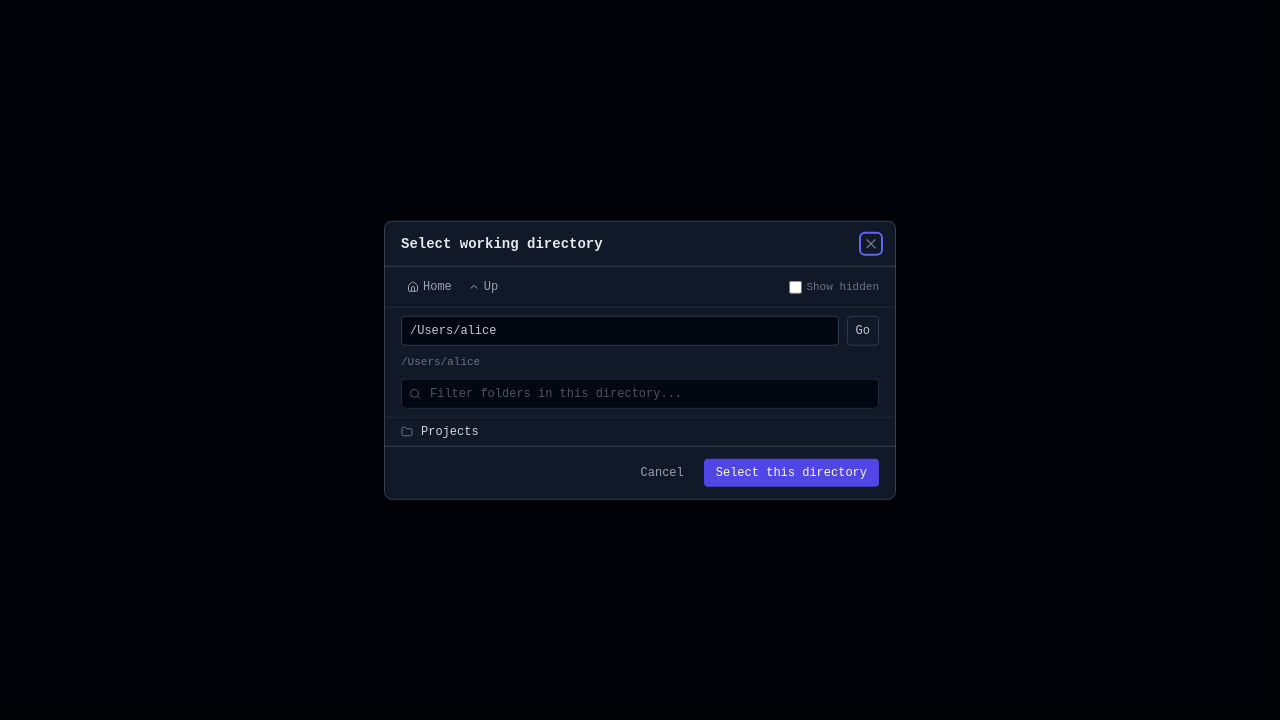
Scenario: FolderPicker — navigation (POSIX) › descends into a child directory with POSIX separator
Click the button "Projects" at (450, 431), box [385,417,895,445]
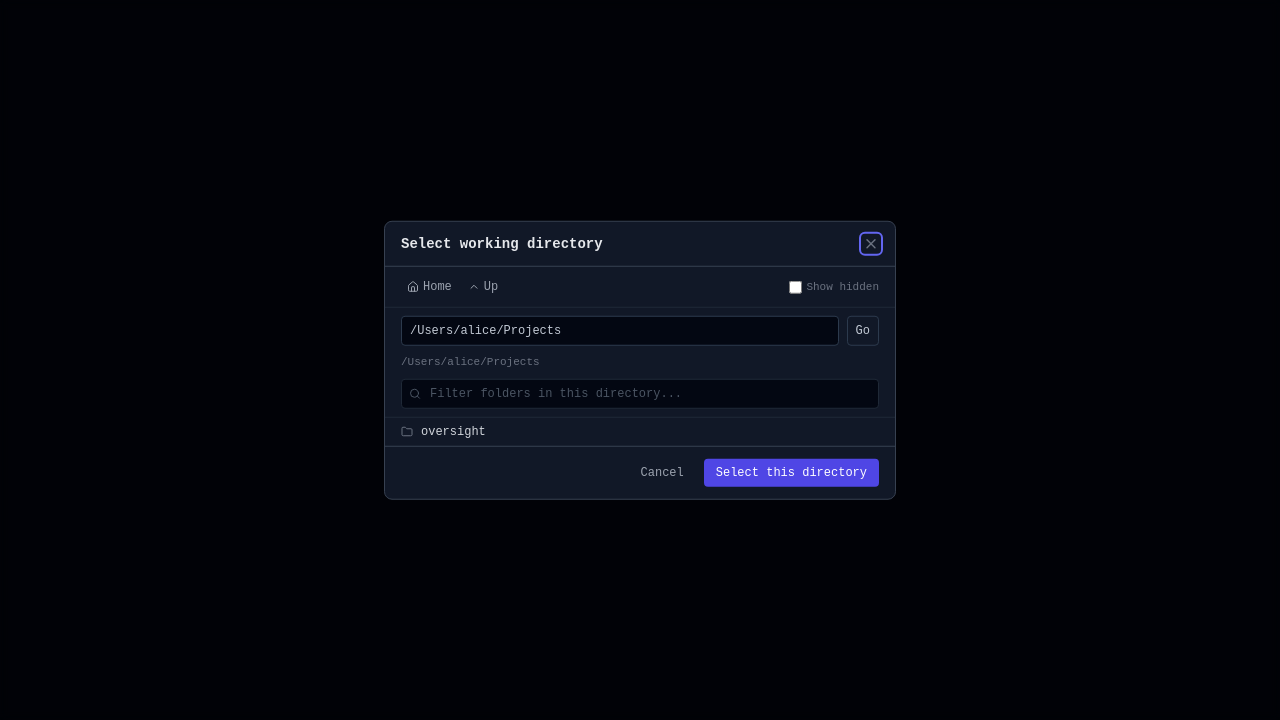
Now the text "oversight" is shown, box [421,423,486,439]
Now the text "/Users/alice/Projects" is shown, box [401,356,540,368]
